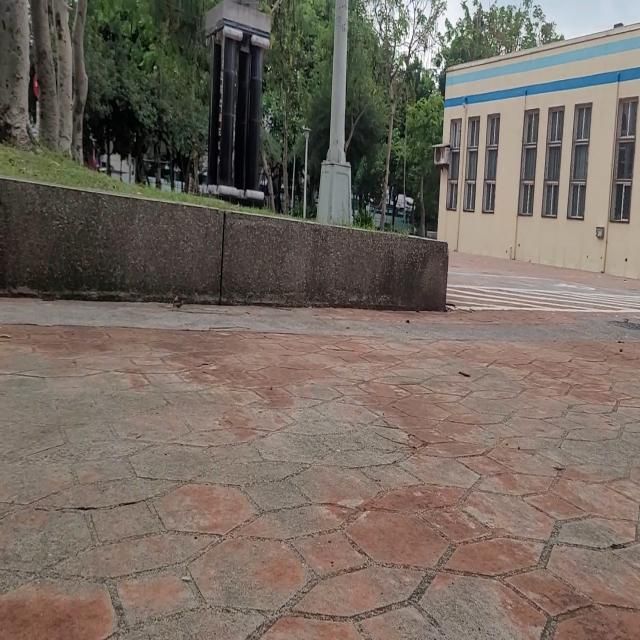Tree: (379, 8, 412, 226), (1, 1, 41, 159), (53, 1, 76, 164), (73, 1, 88, 170), (39, 1, 56, 149)
